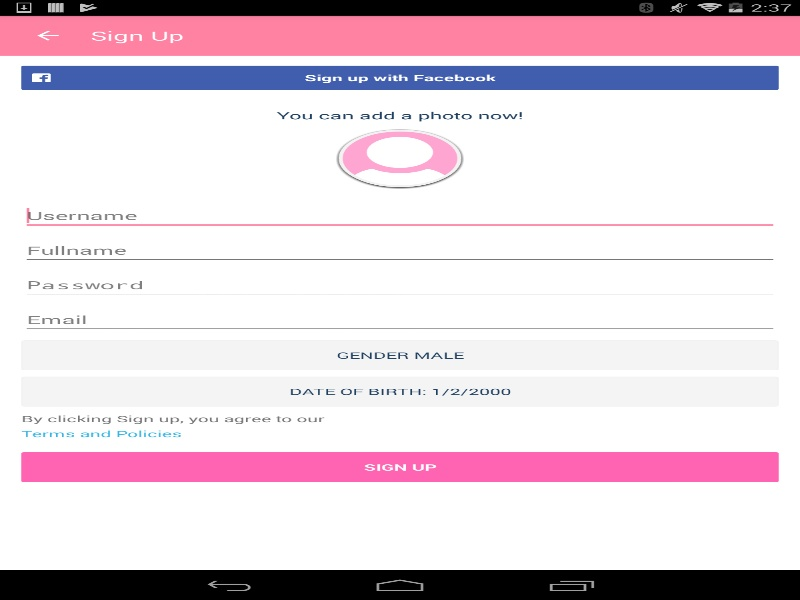Button: (21, 340, 778, 370), (21, 376, 778, 406), (21, 452, 778, 482), (21, 65, 778, 90), (10, 15, 85, 55)
Input: (21, 201, 778, 230), (21, 270, 778, 299), (21, 305, 778, 334), (21, 236, 778, 264)
